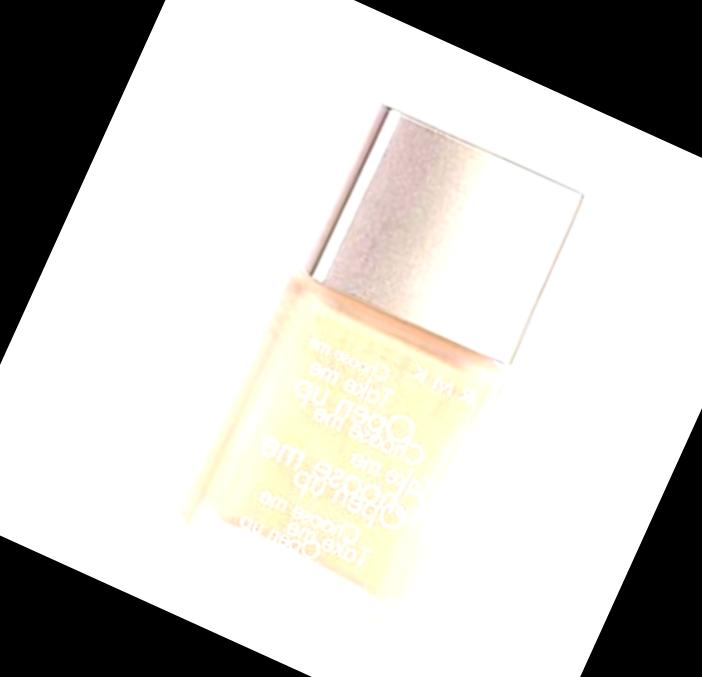cosmetic: (160, 89, 595, 637)
